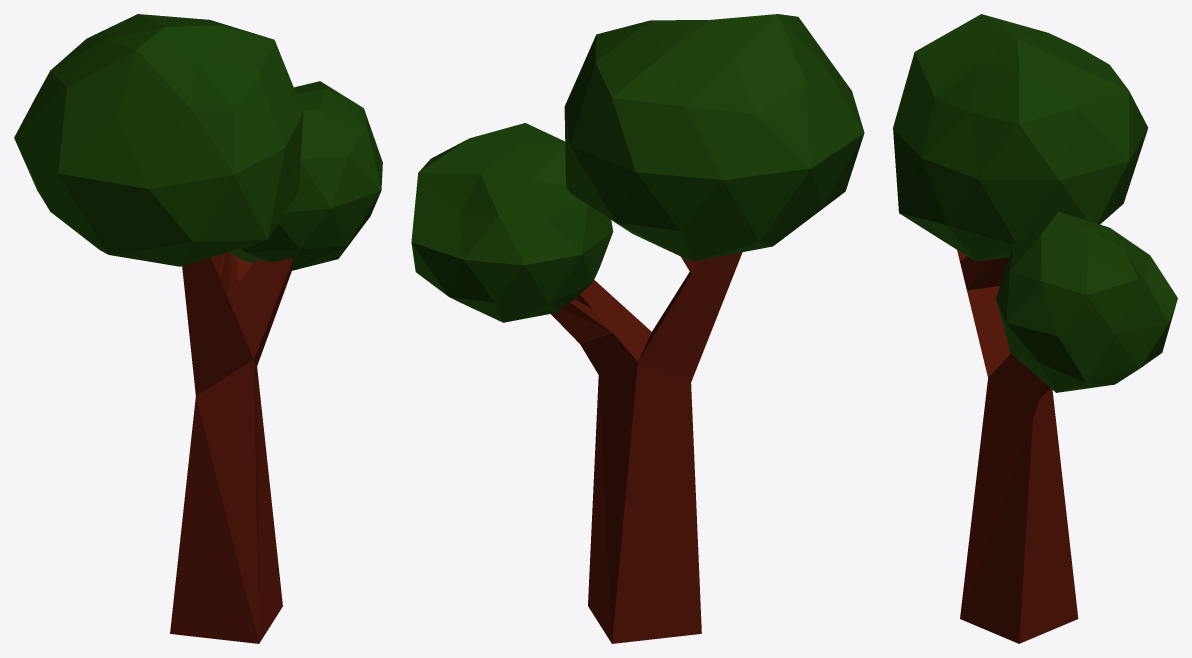
The model's file is Tree.obj.
3 views of the same model, side by side, from view 1: azimuth 30°, elevation 25°; view 2: azimuth 150°, elevation 25°; view 3: azimuth 270°, elevation 25° (orthographic). The views are drawn at different scales.
Visible parts, largest first — view 1: 棱角球.001, 柱体, 棱角球; view 2: 棱角球.001, 柱体, 棱角球; view 3: 棱角球.001, 柱体, 棱角球.
Boxes of the visible parts, box(x1,y1,x2,y2) form: 棱角球.001: box(14, 14, 303, 266); 柱体: box(170, 252, 293, 643); 棱角球: box(231, 81, 382, 270); 棱角球.001: box(564, 14, 864, 261); 柱体: box(551, 252, 742, 643); 棱角球: box(411, 123, 613, 322); 棱角球.001: box(893, 14, 1148, 261); 柱体: box(957, 250, 1078, 643); 棱角球: box(996, 211, 1177, 392).
Bounding box in the file's own units: 3.25 × 5.13 × 2.38.
